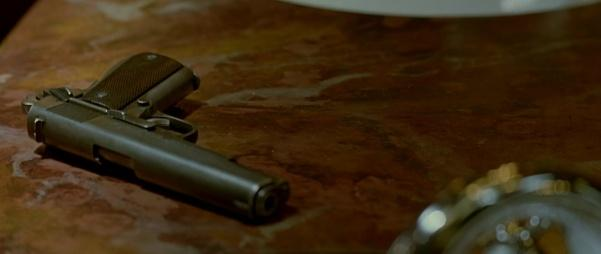Gun: (25, 50, 292, 227)
